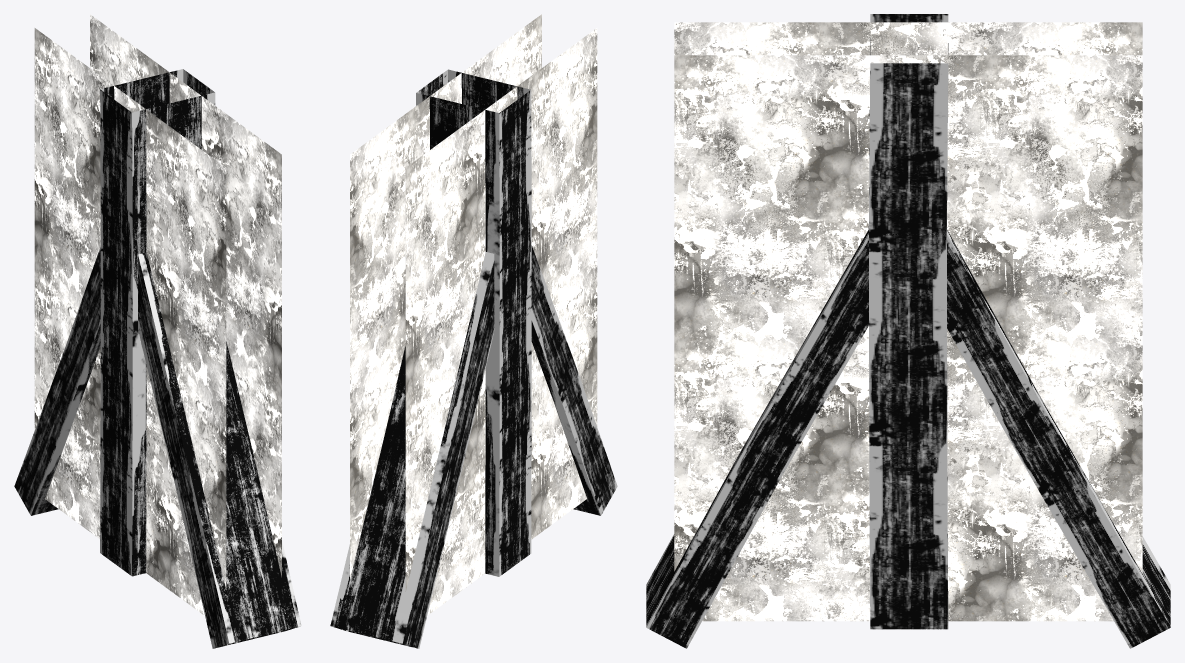
File: SM_wall_A_3x4_02_01.fbx
3 views of the same model, side by side, from view 1: azimuth 30°, elevation 25°; view 2: azimuth 150°, elevation 25°; view 3: azimuth 270°, elevation 25° (orthographic). The views are drawn at different scales.
Parts seen in each view (by area): view 1: SM_wall_A_3x4_02_01_LOD0; view 2: SM_wall_A_3x4_02_01_LOD0; view 3: SM_wall_A_3x4_02_01_LOD0.
Part boxes in pixels (left/top/right/bottom): SM_wall_A_3x4_02_01_LOD0: left=14, top=14, right=301, bottom=648; SM_wall_A_3x4_02_01_LOD0: left=330, top=14, right=617, bottom=648; SM_wall_A_3x4_02_01_LOD0: left=646, top=14, right=1170, bottom=648.
Size of the model in its own units: 75 by 336 by 416.
3 materials, 3 textured.
